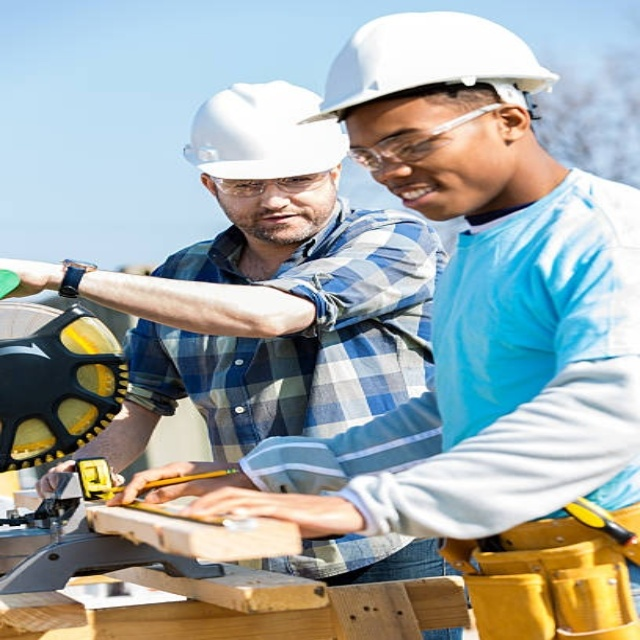Gafas: (346, 107, 500, 175), (201, 160, 337, 197)
Sin_guantes: (185, 483, 364, 535), (107, 451, 231, 509)
Sin_mascara: (380, 182, 460, 214), (238, 206, 304, 237)
